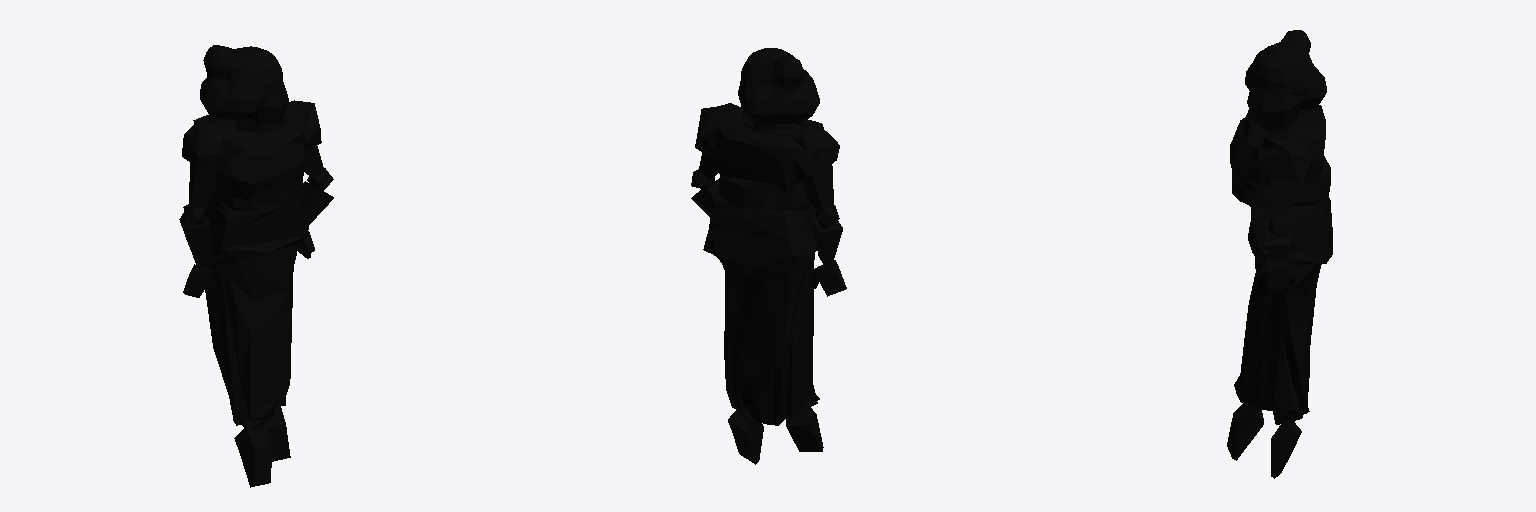
Rendered from Statue7.obj.
The picture shows the model from 3 angles: view 1: azimuth 30°, elevation 25°; view 2: azimuth 150°, elevation 25°; view 3: azimuth 270°, elevation 25°; orthographic projection.
Visible parts, largest first — view 1: Statue7_Cube.027; view 2: Statue7_Cube.027; view 3: Statue7_Cube.027.
Part boxes in pixels (x1,y1,x2,y2): Statue7_Cube.027: (179,45,333,487); Statue7_Cube.027: (691,48,846,464); Statue7_Cube.027: (1227,30,1332,478).
Bounding box in the file's own units: 0.7701 × 2.06 × 0.472.